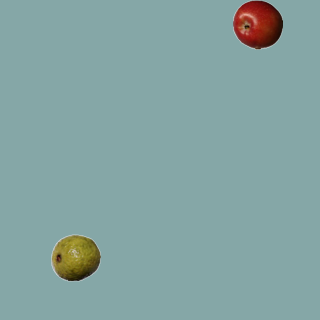Apple Braeburn: (232, 0, 282, 49)
Guava: (50, 232, 100, 282)
